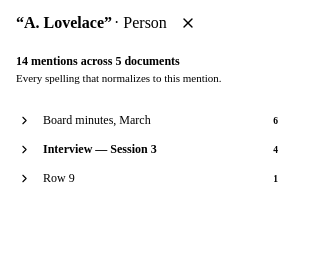
Test case: MentionDetailPanel — Level 2 › a failed expand reports itself and leaves the rest of the panel usable
Click the 1st button with test id "mention-detail-expand": {"x": 24, "y": 121} [16,110,33,131]
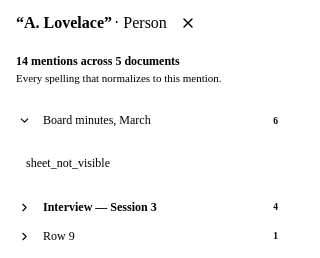
Expected: the message with test id "mention-occurrence-error" reads "sheet_not_visible", [26,156,110,170]
